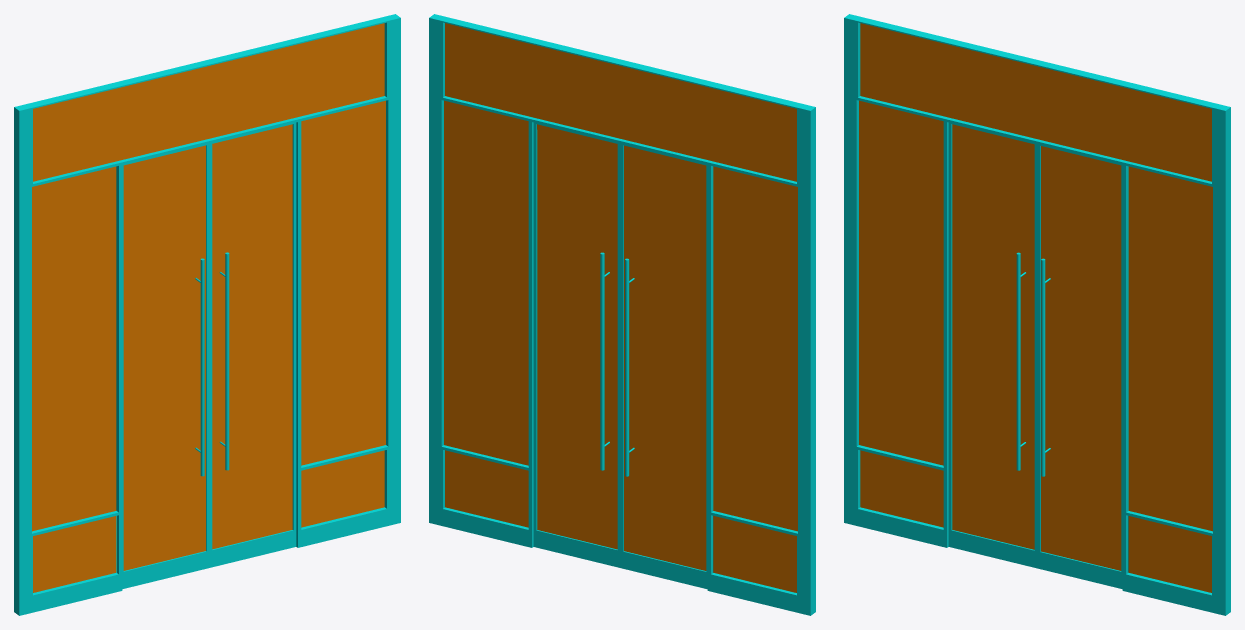
The model's file is FrontDoor14.fbx.
The picture shows the model from 3 angles, left to right: view 1: azimuth 30°, elevation 25°; view 2: azimuth 150°, elevation 25°; view 3: azimuth 330°, elevation 25°; orthographic projection.
Parts seen in each view (by area): view 1: FrontDoor14; view 2: FrontDoor14; view 3: FrontDoor14.
Part boxes in pixels (box(x1,y1,x2,y2)): FrontDoor14: box(14, 14, 400, 615); FrontDoor14: box(429, 14, 815, 615); FrontDoor14: box(844, 14, 1230, 615).
Bounding box in the file's own units: 244 × 309 × 18.07.
